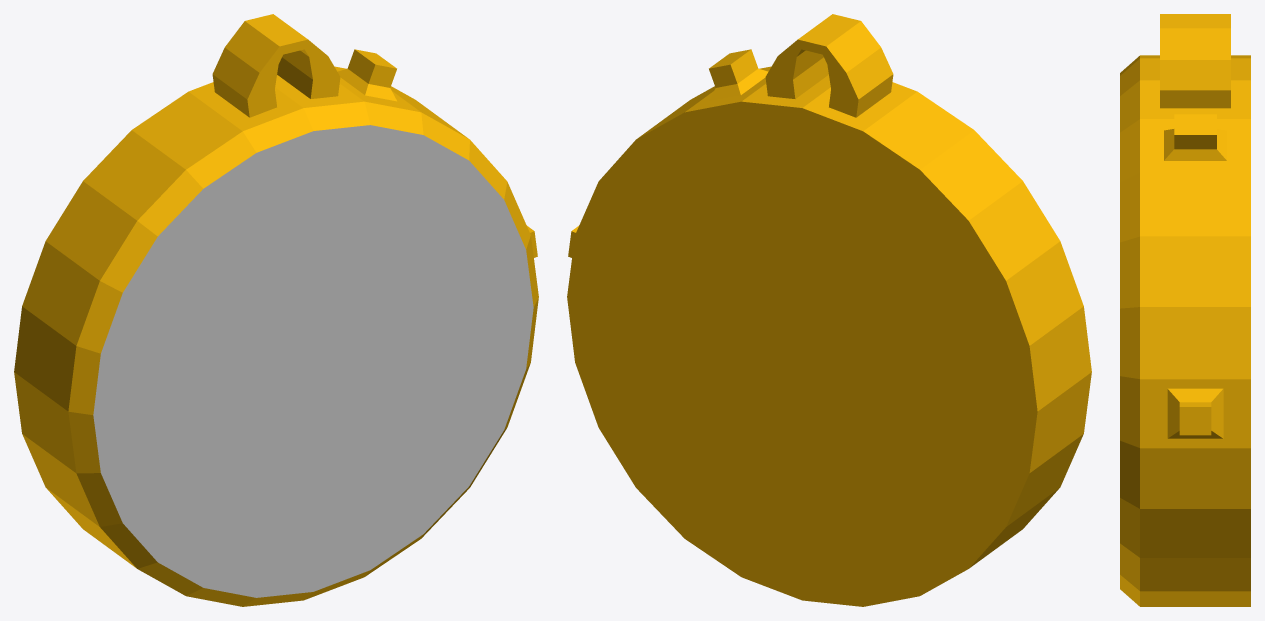
Rendered from Clock.fbx.
3 renders of one model, left to right at view 1: azimuth 30°, elevation 25°; view 2: azimuth 150°, elevation 25°; view 3: azimuth 270°, elevation 25°, orthographic.
Parts seen in each view (by area): view 1: Cylinder; view 2: Cylinder; view 3: Cylinder.
Part boxes in pixels (left/top/right/bottom): Cylinder: left=14, top=14, right=538, bottom=606; Cylinder: left=567, top=14, right=1091, bottom=606; Cylinder: left=1120, top=14, right=1250, bottom=606.
Bounding box in the file's own units: 20.78 × 22.35 × 4.72.
